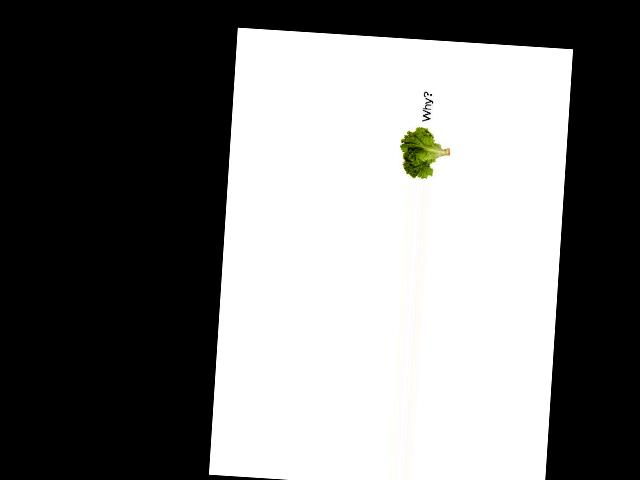lettuce: (397, 121, 452, 181)
